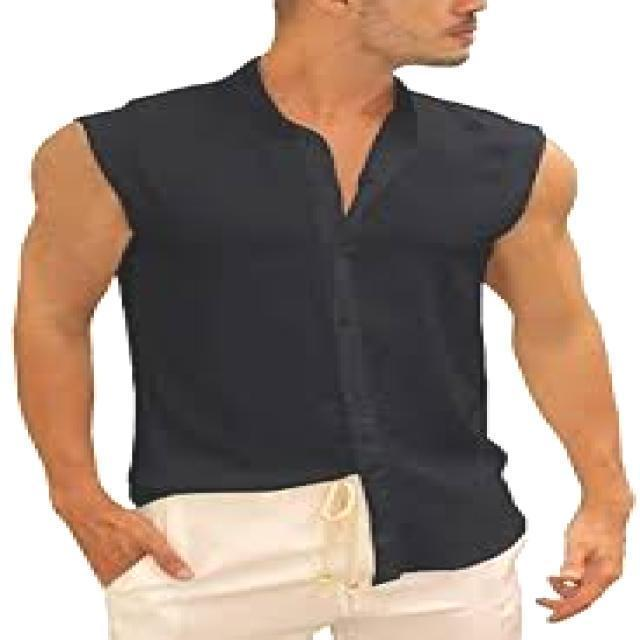no_vest: (77, 52, 544, 586)
